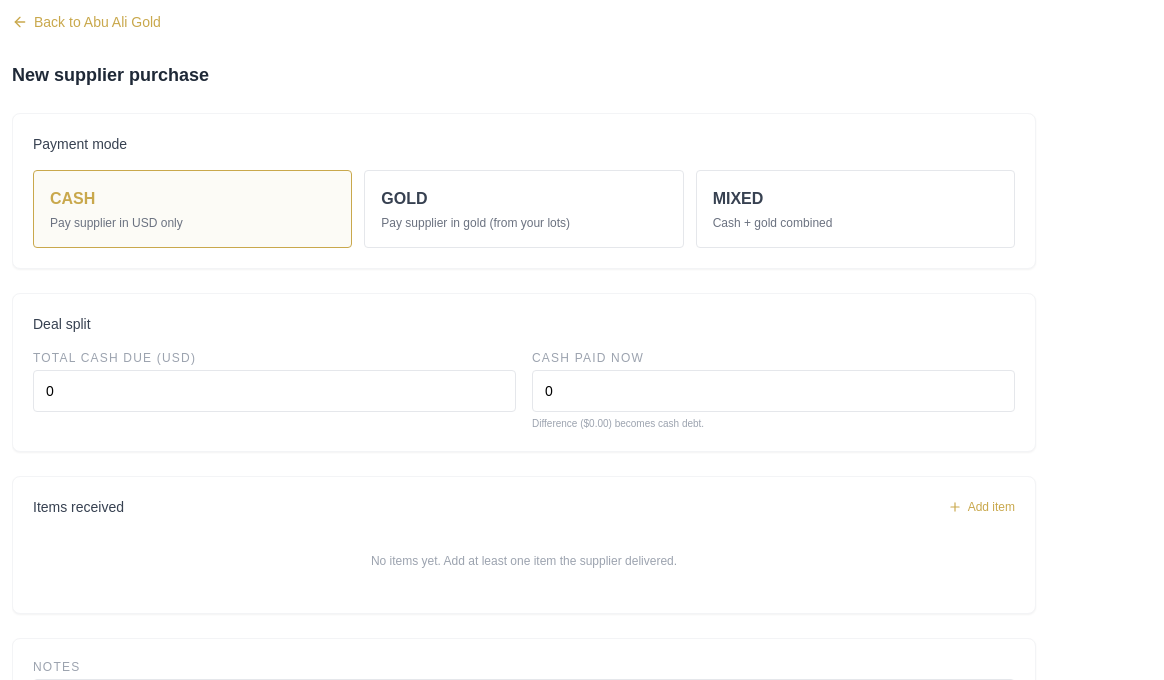
Test: new supplier purchase labels and i18n (NEX-64) › the deal fields are reachable by label and the label's control is the input
The width and height of the screenshot is (1164, 680).
Expected: the label labelled "Total cash due (USD)" is shown, [33,350,516,431]
Expected: the label labelled "Cash paid now" is shown, [532,350,1015,412]
Replace the text in the number field labelled "Total cash due (USD)" with "1500" at (274, 391), box [33,370,516,412]
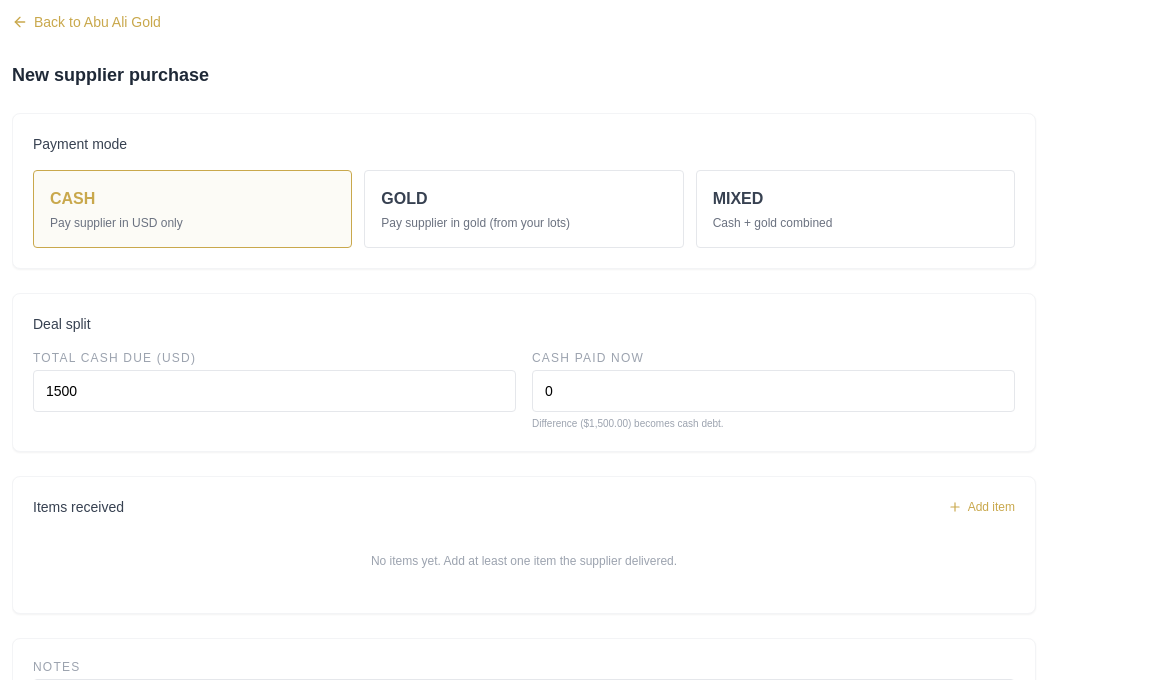
Replace the text in the number field labelled "Cash paid now" with "249.5" at (774, 391), box [532,370,1015,412]
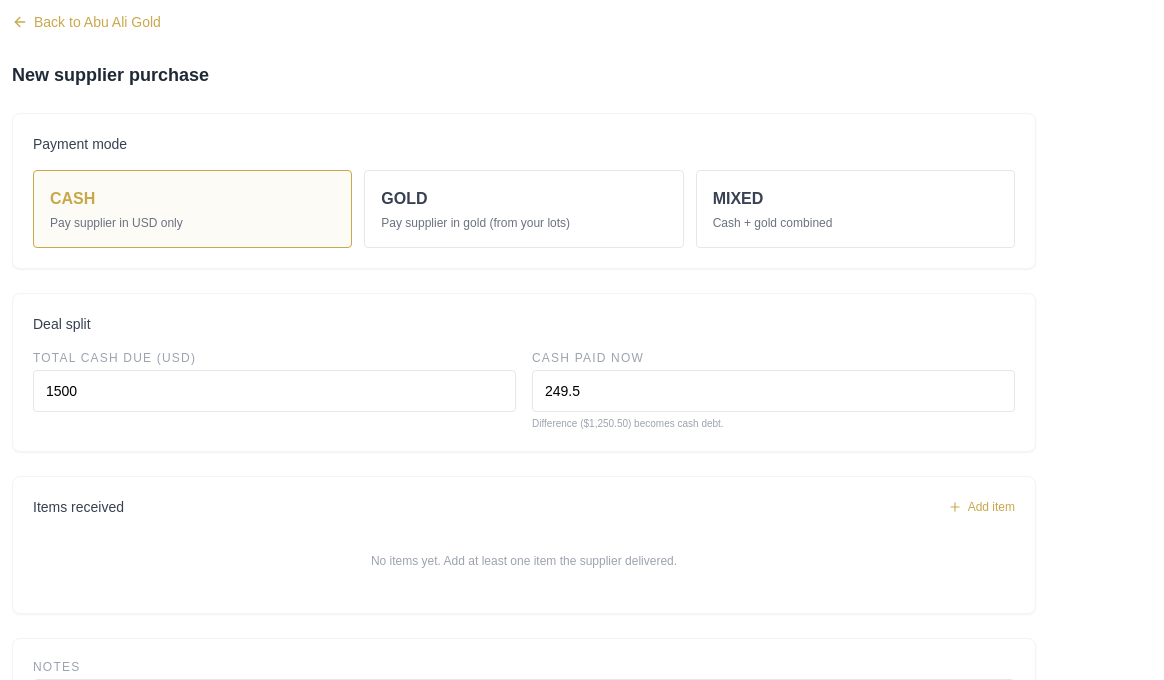
Expected: the element showing "Difference ($1,250.50) becomes cash debt." is shown, [532,418,724,429]
Click the button "MIXED Cash + gold combined" at (738, 198), box [696,170,1015,248]
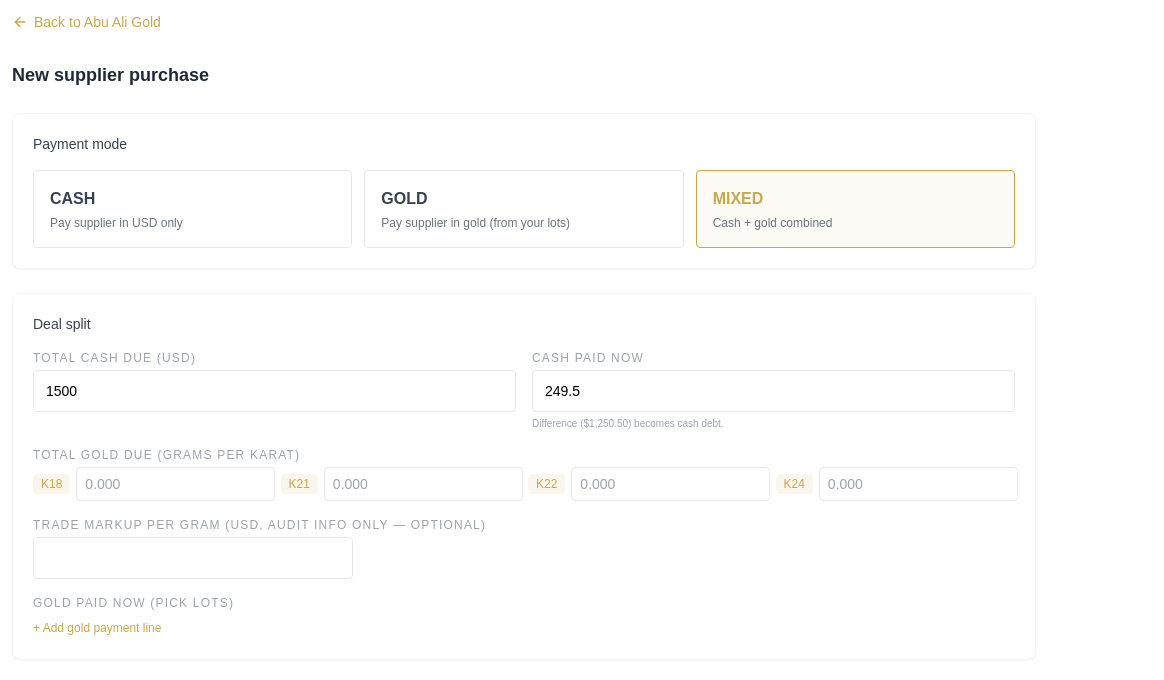
Expected: the label labelled "Trade markup per gram (USD, audit info only — optional)" is shown, [33,518,486,579]
